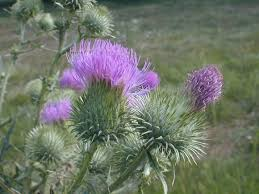bull thistle: (137, 64, 226, 168), (67, 37, 141, 148), (39, 98, 72, 134), (57, 68, 84, 101)
